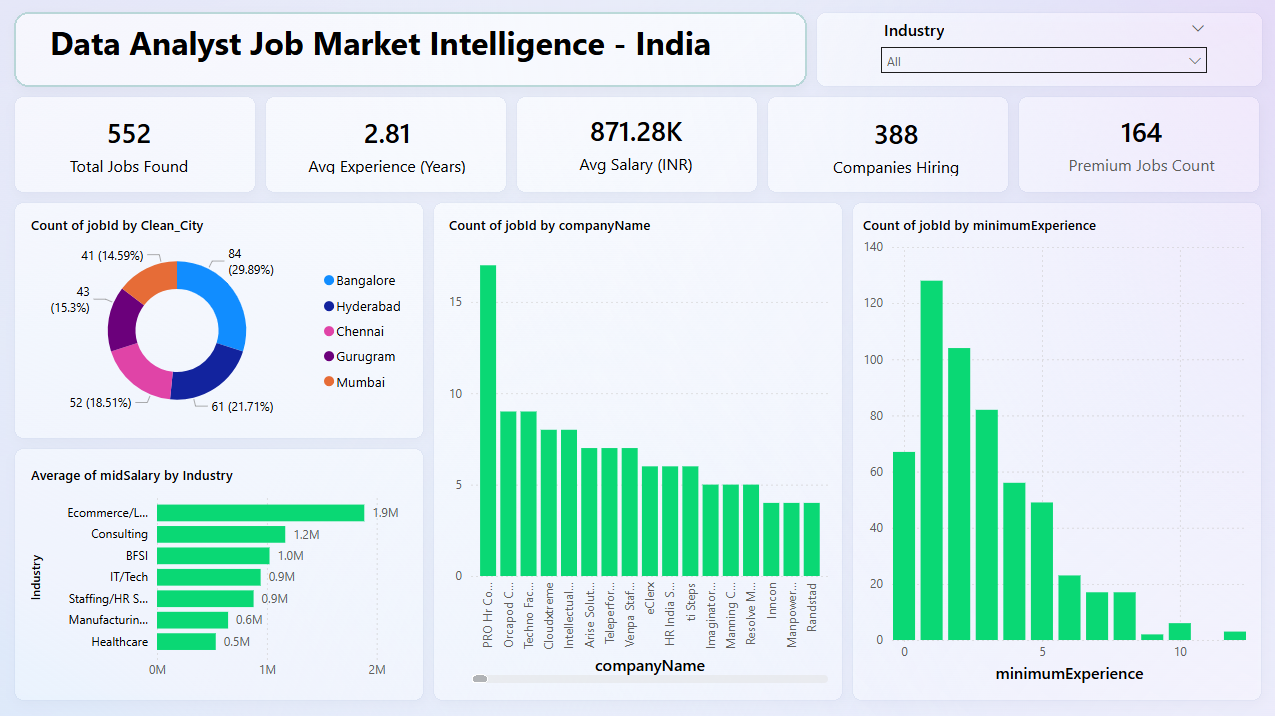

The page's visual inventory and layout, read from the dashboard file:
{"tool":"powerbi","page":{"name":"Page 1","canvas":[1280,720],"ordinal":0},"visuals":[{"type":"clusteredBarChart","fields":{"Category":["Master_Analyst_Data_Cleaned.Industry"],"Y":["Avg(Master_Analyst_Data_Cleaned.midSalary)"]},"box":[21.1,455.6,403.3,241.1],"z":0},{"type":"donutChart","fields":{"Category":["Master_Analyst_Data_Cleaned.Clean_City"],"Y":["Count(Master_Analyst_Data_Cleaned.jobId)"]},"box":[21.1,205.6,403.3,231.1],"z":1000},{"type":"card","fields":{"Values":["Count(Master_Analyst_Data_Cleaned.jobId)"]},"box":[30,102.2,202.2,87.8],"z":2000},{"type":"card","fields":{"Values":["Avg(Master_Analyst_Data_Cleaned.midSalary)"]},"box":[533.3,101.1,210,86.7],"z":3000},{"type":"card","fields":{"Values":["Avg(Master_Analyst_Data_Cleaned.minimumExperience)"]},"box":[288.9,104.4,200,83.3],"z":4000},{"type":"card","fields":{"Values":["Count(Master_Analyst_Data_Cleaned.companyName)"]},"box":[787.8,104.4,220,85.6],"z":5000},{"type":"clusteredColumnChart","fields":{"Y":["CountNonNull(Master_Analyst_Data_Cleaned.jobId)"],"Category":["Master_Analyst_Data_Cleaned.companyName"]},"box":[438.9,205.6,403.3,491.1],"z":6000},{"type":"textbox","box":[46.7,0,868.9,74.4],"z":7000},{"type":"clusteredColumnChart","fields":{"Y":["CountNonNull(Master_Analyst_Data_Cleaned.jobId)"],"Category":["Master_Analyst_Data_Cleaned.minimumExperience"]},"box":[853.3,205.6,406.7,491.1],"z":9000},{"type":"card","fields":{"Values":["Master_Analyst_Data_Cleaned.Premium Jobs Count"]},"box":[1046.7,101.1,193.3,87.8],"z":11000},{"type":"slicer","fields":{"Values":["Master_Analyst_Data_Cleaned.Industry"]},"box":[877.5,21.2,336.2,66.2],"z":11001}]}

Visuals, with their boxes in screenshot pixels (x1, y1, x2, y2), scaled from the page's 1280x720 canvas onto the 1275x716 screenshot:
clusteredBarChart - Master_Analyst_Data_Cleaned.Industry x Avg(Master_Analyst_Data_Cleaned.midSalary): [x1=21, y1=453, x2=423, y2=693]
donutChart - Master_Analyst_Data_Cleaned.Clean_City x Count(Master_Analyst_Data_Cleaned.jobId): [x1=21, y1=204, x2=423, y2=434]
card - Count(Master_Analyst_Data_Cleaned.jobId): [x1=30, y1=102, x2=231, y2=189]
card - Avg(Master_Analyst_Data_Cleaned.midSalary): [x1=531, y1=101, x2=740, y2=187]
card - Avg(Master_Analyst_Data_Cleaned.minimumExperience): [x1=288, y1=104, x2=487, y2=187]
card - Count(Master_Analyst_Data_Cleaned.companyName): [x1=785, y1=104, x2=1004, y2=189]
clusteredColumnChart - CountNonNull(Master_Analyst_Data_Cleaned.jobId) x Master_Analyst_Data_Cleaned.companyName: [x1=437, y1=204, x2=839, y2=693]
textbox: [x1=47, y1=0, x2=912, y2=74]
clusteredColumnChart - CountNonNull(Master_Analyst_Data_Cleaned.jobId) x Master_Analyst_Data_Cleaned.minimumExperience: [x1=850, y1=204, x2=1255, y2=693]
card - Master_Analyst_Data_Cleaned.Premium Jobs Count: [x1=1043, y1=101, x2=1235, y2=188]
slicer - Master_Analyst_Data_Cleaned.Industry: [x1=874, y1=21, x2=1209, y2=87]
